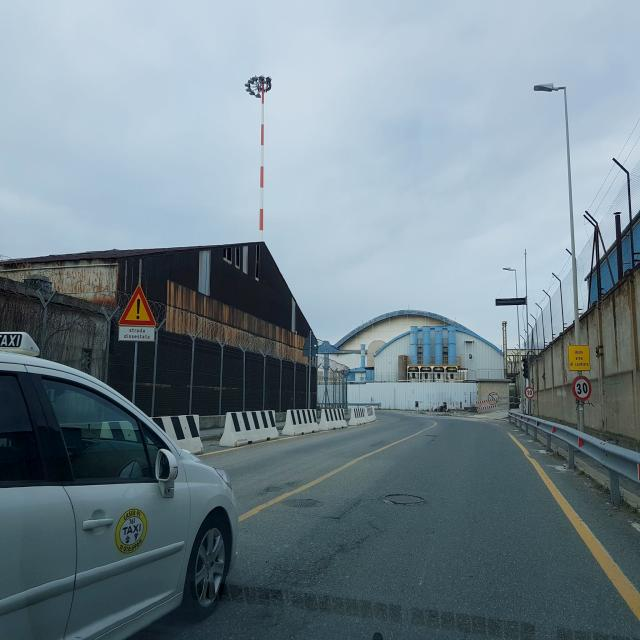car: (0, 330, 240, 640)
